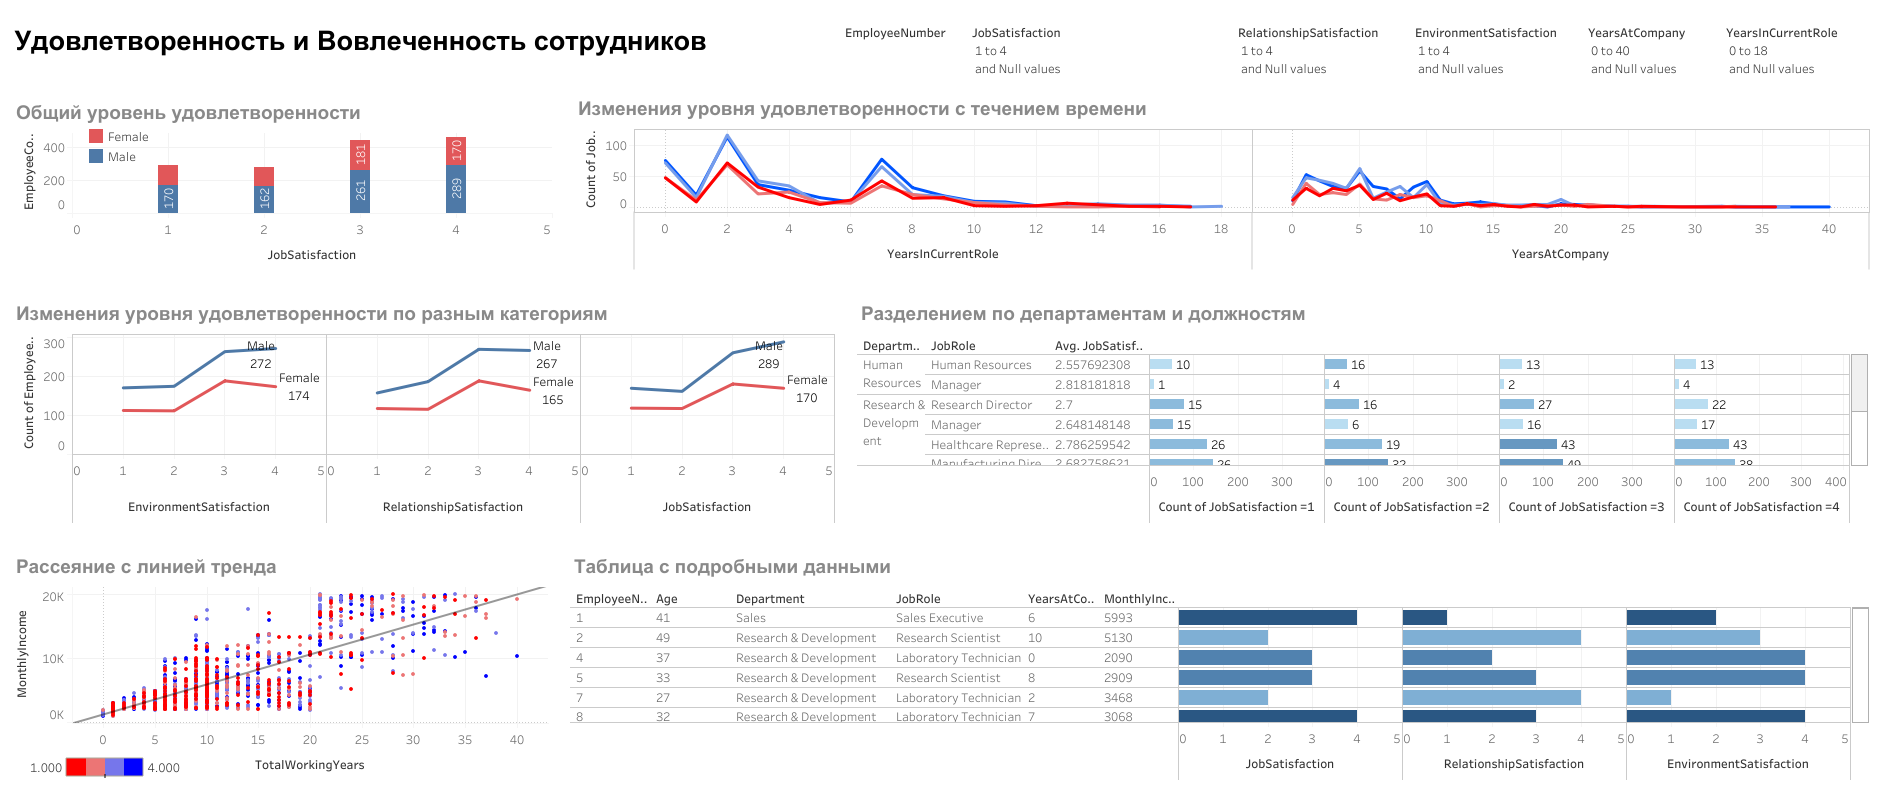

The dashboard page shown, as its layout file describes it:
{"tool":"tableau","page":{"name":"Dashboard 1","canvas":[1000,1000],"units":"permille","ordinal":0},"visuals":[{"type":"text","box":[4.7,8.5,487.4,82.6]},{"type":"filter","title":"Таблица с подробными данными","param":"[federated.1l0u62h1o20u8c157jikv1itbnuz].[none:EmployeeNumber:ok]","box":[492.1,8.5,74.3,82.6]},{"type":"filter","title":"Таблица с подробными данными","param":"[federated.1l0u62h1o20u8c157jikv1itbnuz].[none:JobSatisfaction:qk]","box":[566.4,8.5,89.2,82.6]},{"type":"filter","title":"Таблица с подробными данными","param":"[federated.1l0u62h1o20u8c157jikv1itbnuz].[none:RelationshipSatisfaction:qk]","box":[655.6,8.5,94.1,82.6]},{"type":"filter","title":"Таблица с подробными данными","param":"[federated.1l0u62h1o20u8c157jikv1itbnuz].[none:EnvironmentSatisfaction:qk]","box":[749.8,8.5,91.7,82.6]},{"type":"filter","title":"Изменения уровня удовлетворенности с течением времени","param":"[federated.1l0u62h1o20u8c157jikv1itbnuz].[none:YearsAtCompany:qk]","box":[841.4,8.5,73,82.6]},{"type":"filter","title":"Изменения уровня удовлетворенности с течением времени","param":"[federated.1l0u62h1o20u8c157jikv1itbnuz].[none:YearsInCurrentRole:qk]","box":[914.4,8.5,80.9,82.6]},{"type":"worksheet","title":"Общий уровень удовлетворенности","mark":"Bar","rows":["EmployeeCount"],"cols":["JobSatisfaction"],"box":[4.7,91,298.6,254.3]},{"type":"worksheet","title":"Изменения уровня удовлетворенности с течением времени","mark":"Line","rows":["JobSatisfaction"],"cols":["YearsInCurrentRole","YearsAtCompany"],"box":[303.3,91,692,254.3]},{"type":"legend","title":"Общий уровень удовлетворенности","param":"[federated.1l0u62h1o20u8c157jikv1itbnuz].[none:Gender:nk]","box":[45.8,158.9,49.5,58.3]},{"type":"worksheet","title":"Изменения уровня удовлетворенности по разным категориям","mark":"Line","rows":["EmployeeNumber"],"cols":["EnvironmentSatisfaction","RelationshipSatisfaction","JobSatisfaction"],"box":[4.7,345.3,393.2,320.9]},{"type":"worksheet","title":"Разделением по департаментам и должностям","mark":"Bar","rows":["Department","JobRole","JobSatisfaction"],"cols":["Calculation_182114325282316289","Calculation_182114325283008514","Calculation_182114325283057667","Calculation_182114325283090436"],"box":[397.9,345.3,597.4,320.9]},{"type":"worksheet","title":"Рассеяние с линией тренда","mark":"Shape","rows":["MonthlyIncome"],"cols":["TotalWorkingYears"],"box":[4.7,666.2,275.9,325.3]},{"type":"worksheet","title":"Таблица с подробными данными","mark":"Bar","rows":["EmployeeNumber","Age","Department","JobRole","YearsAtCompany","MonthlyIncome"],"cols":["JobSatisfaction","RelationshipSatisfaction","EnvironmentSatisfaction"],"box":[280.6,666.2,714.8,325.3]}]}

Visuals, with their boxes on the dashboard's canvas, which has no fixed pixel size, in thousandths of its width and height (x1, y1, x2, y2). These are canvas units, not pixel positions in the 1881x791 screenshot, which may show the page scaled, cropped or inside an application window:
text: [x1=5, y1=8, x2=492, y2=91]
"Таблица с подробными данными" filter: [x1=492, y1=8, x2=566, y2=91]
"Таблица с подробными данными" filter: [x1=566, y1=8, x2=656, y2=91]
"Таблица с подробными данными" filter: [x1=656, y1=8, x2=750, y2=91]
"Таблица с подробными данными" filter: [x1=750, y1=8, x2=842, y2=91]
"Изменения уровня удовлетворенности с течением времени" filter: [x1=841, y1=8, x2=914, y2=91]
"Изменения уровня удовлетворенности с течением времени" filter: [x1=914, y1=8, x2=995, y2=91]
"Общий уровень удовлетворенности" worksheet (Bar marks): [x1=5, y1=91, x2=303, y2=345]
"Изменения уровня удовлетворенности с течением времени" worksheet (Line marks): [x1=303, y1=91, x2=995, y2=345]
"Общий уровень удовлетворенности" legend: [x1=46, y1=159, x2=95, y2=217]
"Изменения уровня удовлетворенности по разным категориям" worksheet (Line marks): [x1=5, y1=345, x2=398, y2=666]
"Разделением по департаментам и должностям" worksheet (Bar marks): [x1=398, y1=345, x2=995, y2=666]
"Рассеяние с линией тренда" worksheet (Shape marks): [x1=5, y1=666, x2=281, y2=992]
"Таблица с подробными данными" worksheet (Bar marks): [x1=281, y1=666, x2=995, y2=992]
